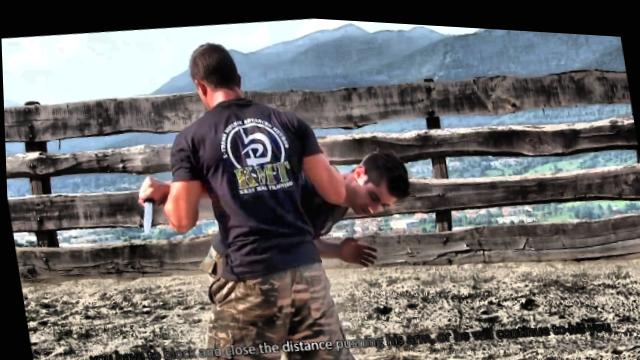knife: (128, 170, 164, 237)
